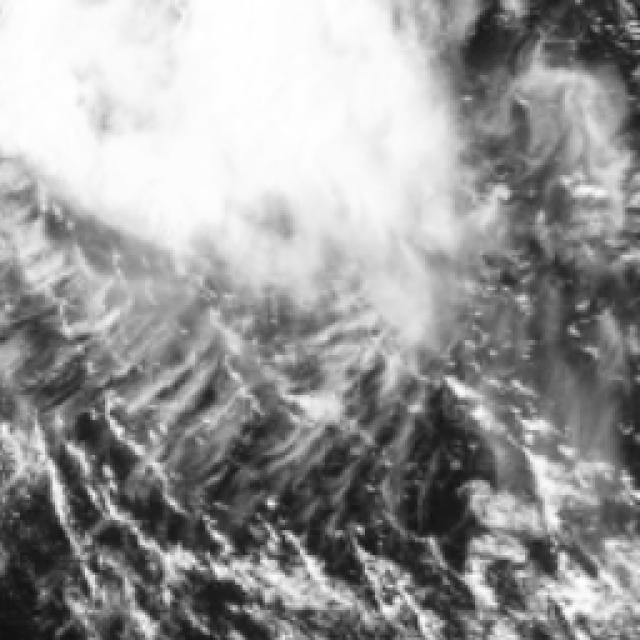CB: (0, 0, 179, 182), (231, 121, 423, 287), (180, 11, 343, 162), (88, 128, 255, 270)
